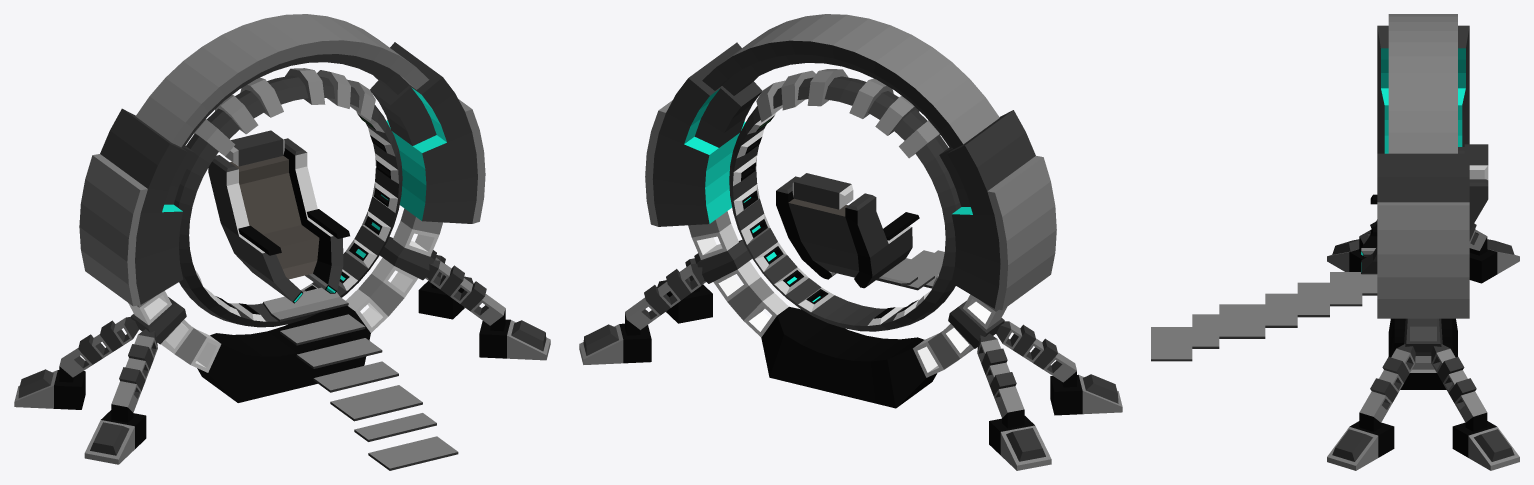
The model's file is Simulador.gltf.
3 views of the same model, side by side, from view 1: azimuth 30°, elevation 25°; view 2: azimuth 150°, elevation 25°; view 3: azimuth 270°, elevation 25° (orthographic). The views are drawn at different scales.
Parts seen in each view (by area): view 1: Simulador_Luz; view 2: Simulador_Luz; view 3: Simulador_Luz.
Part boxes in pixels (<box>): Simulador_Luz: <box>14,14,550,470</box>; Simulador_Luz: <box>579,14,1122,470</box>; Simulador_Luz: <box>1151,14,1519,470</box>.
Size of the model in its own units: 5.03 by 3.55 by 3.59.
Materials: 1 (1 with a texture image).
